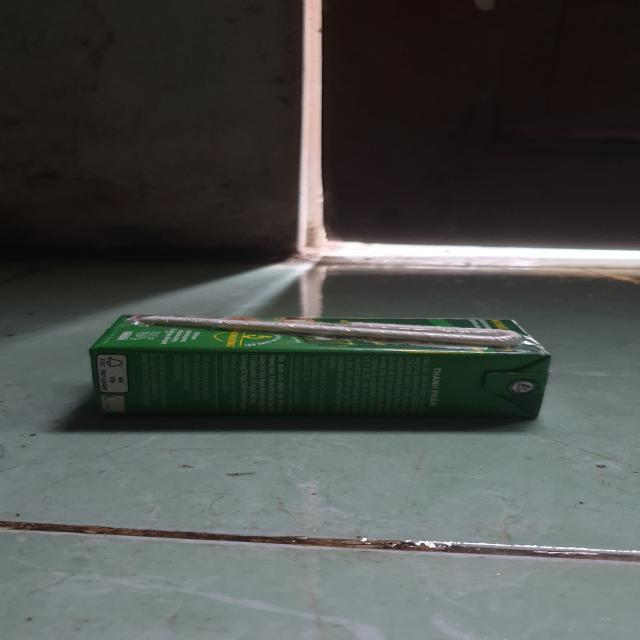Milo: (82, 308, 563, 432)
